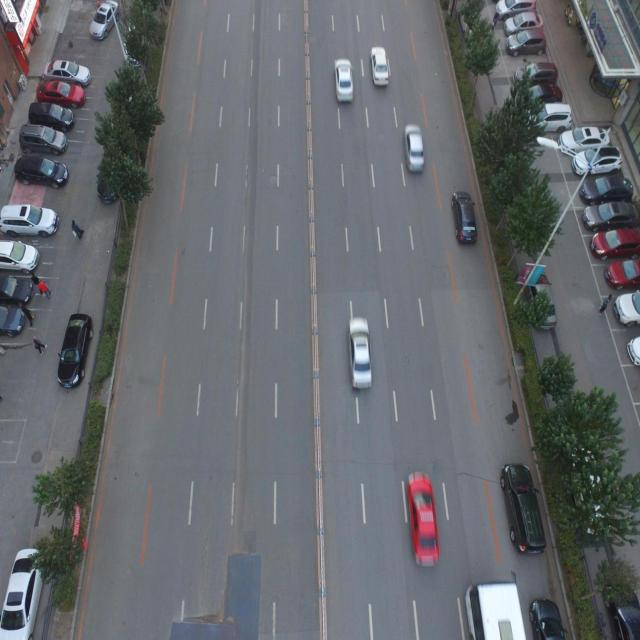p3rson: (70, 219, 85, 241), (598, 292, 610, 317), (33, 336, 48, 356), (38, 278, 52, 299), (22, 305, 34, 325), (492, 9, 498, 32), (30, 272, 39, 287)
